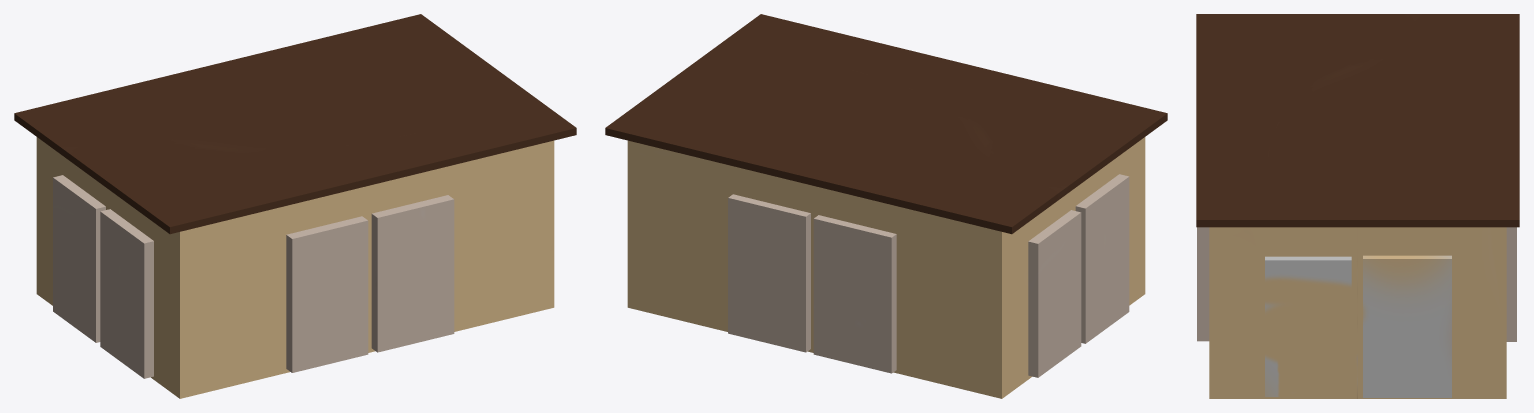
Rendered from minichef_props_mesa.fbx.
3 views of the same model, side by side, from view 1: azimuth 30°, elevation 25°; view 2: azimuth 150°, elevation 25°; view 3: azimuth 270°, elevation 25° (orthographic). The views are drawn at different scales.
Visible parts, largest first — view 1: Mesa; view 2: Mesa; view 3: Mesa.
Boxes of the visible parts, x1=… form: Mesa: x1=14, y1=14, x2=576, y2=398; Mesa: x1=605, y1=14, x2=1167, y2=398; Mesa: x1=1196, y1=14, x2=1519, y2=398.
Size of the model in its own units: 8185 by 3465 by 5426.
